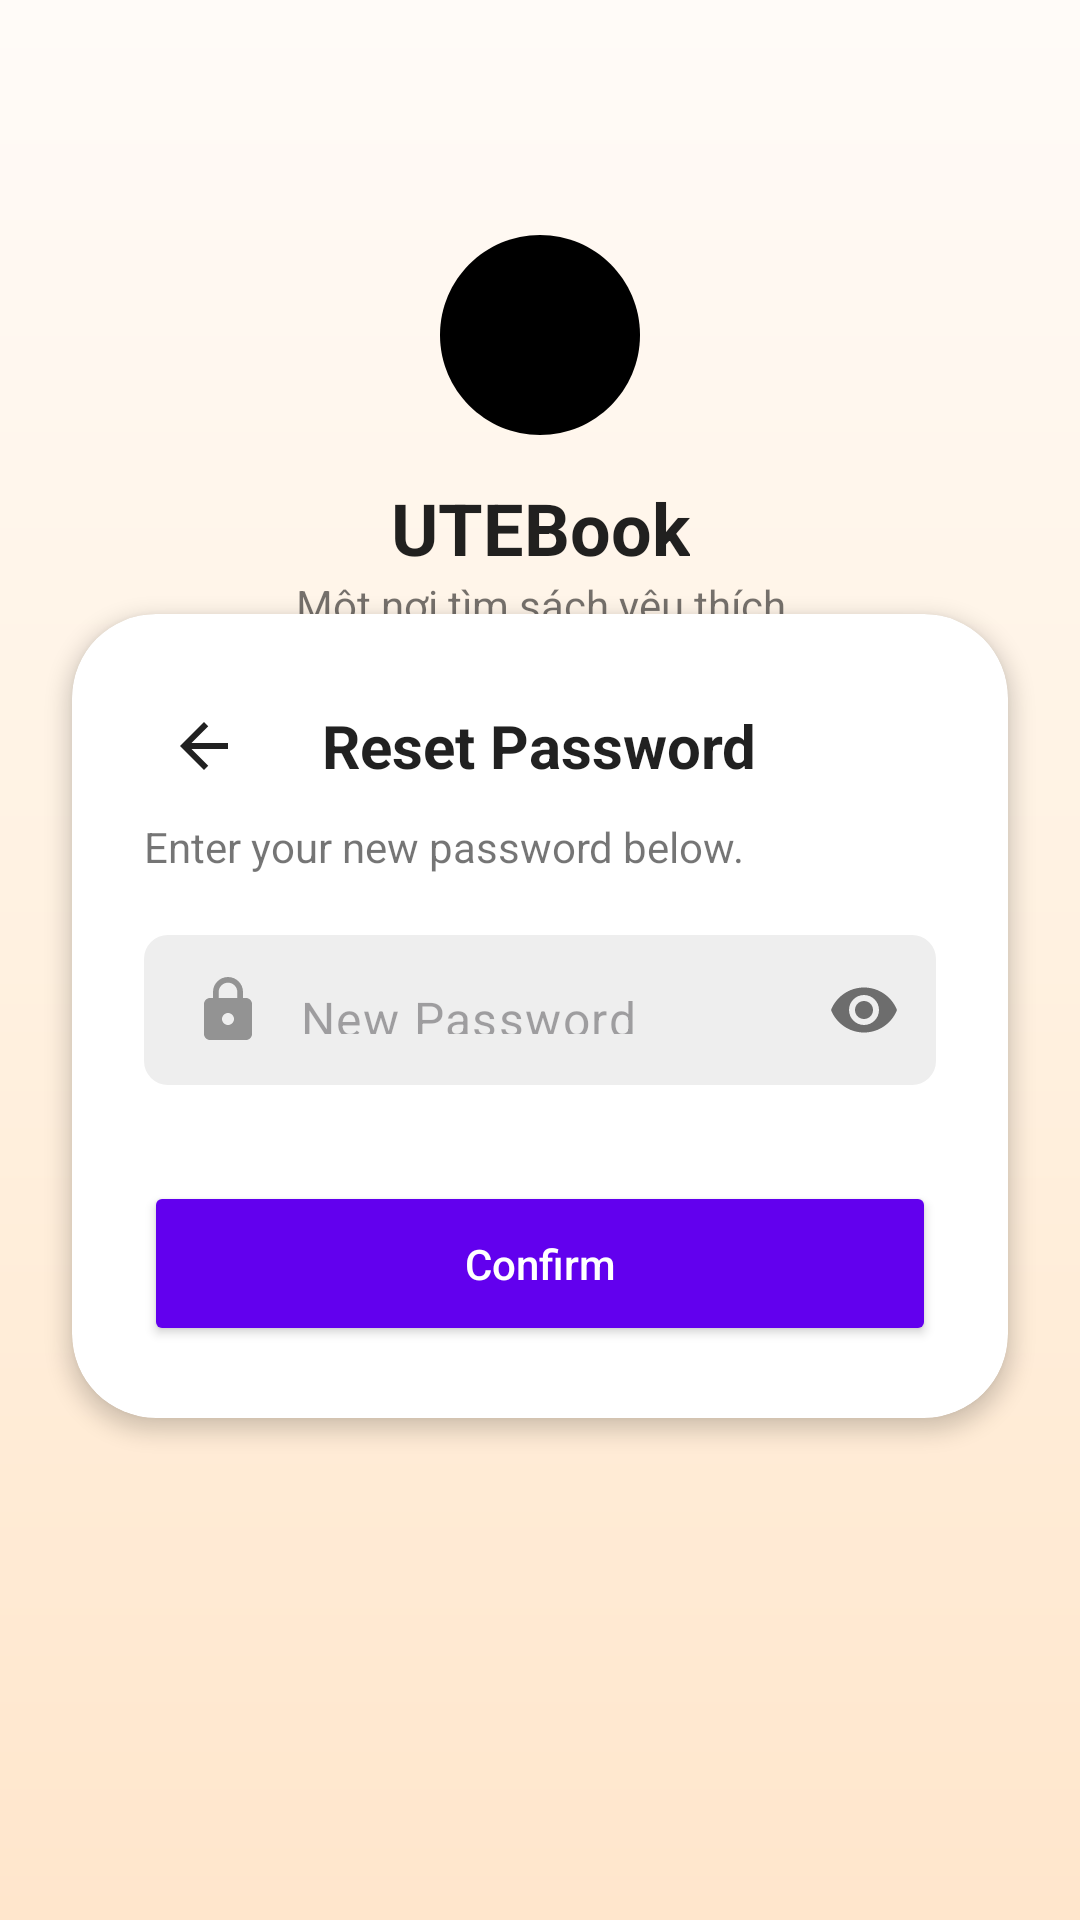

Where icons sit on this 1080 x 1920 app screen, as Rect(x1, y1, x2, y2):
Back: Rect(180, 722, 228, 770)
